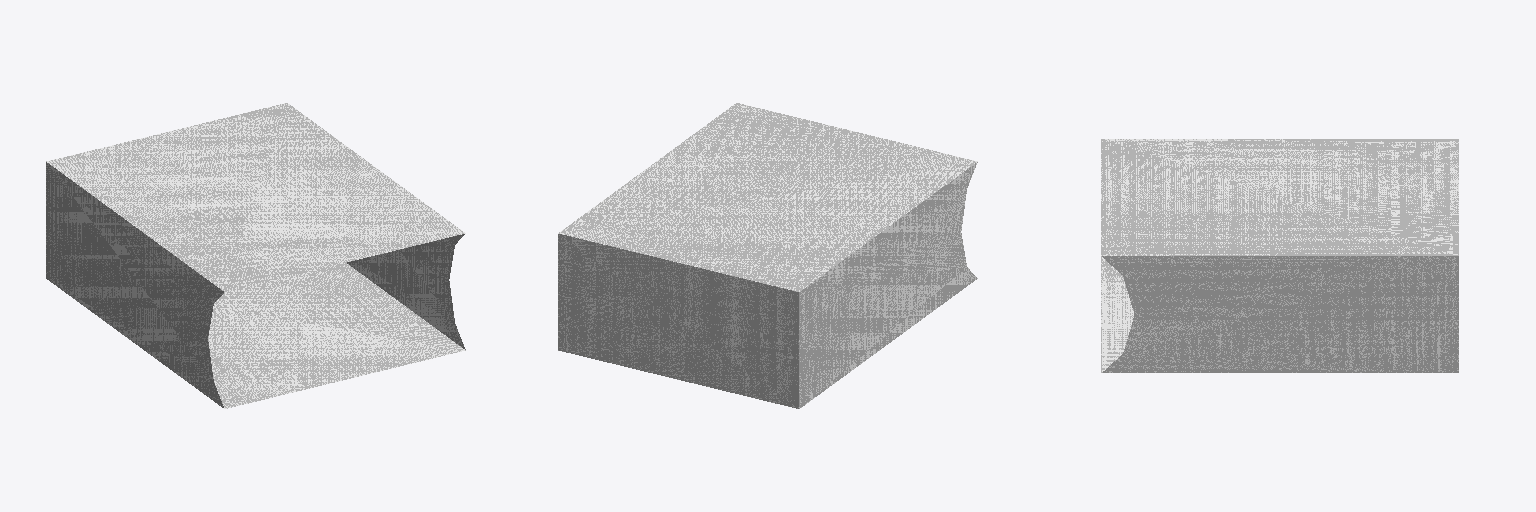
Rendered from original-44.obj.
The picture shows the model from 3 angles: view 1: azimuth 30°, elevation 25°; view 2: azimuth 150°, elevation 25°; view 3: azimuth 270°, elevation 25°; orthographic projection.
Visible parts, largest first — view 1: _3035_C1/_3035_C/mesh30/mesh30-geometry#mesh30-geometry; view 2: _3035_C1/_3035_C/mesh30/mesh30-geometry#mesh30-geometry; view 3: _3035_C1/_3035_C/mesh30/mesh30-geometry#mesh30-geometry.
Part boxes in pixels (x1,y1,x2,y2): _3035_C1/_3035_C/mesh30/mesh30-geometry#mesh30-geometry: (46, 103, 465, 408); _3035_C1/_3035_C/mesh30/mesh30-geometry#mesh30-geometry: (558, 103, 977, 408); _3035_C1/_3035_C/mesh30/mesh30-geometry#mesh30-geometry: (1101, 139, 1458, 372).
Bounding box in the file's own units: 0.0352 × 0.0163 × 0.0451.